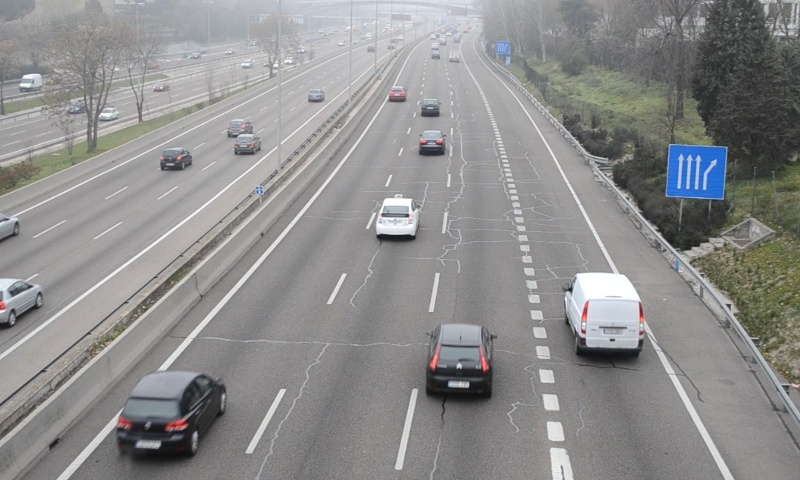car: (116, 372, 227, 456), (426, 322, 493, 396), (376, 198, 419, 236), (418, 129, 445, 156), (420, 98, 440, 118), (387, 86, 408, 102)
van: (565, 272, 644, 356)
